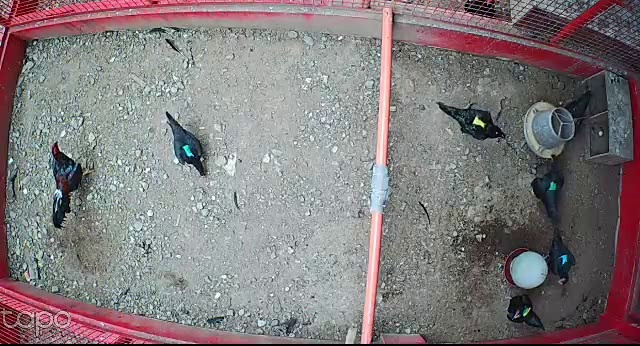Chicken: (162, 110, 209, 178), (436, 99, 508, 142), (527, 155, 567, 230), (543, 225, 578, 287), (501, 295, 550, 333), (563, 88, 592, 132)
Drinker: (502, 248, 553, 291)
Feeder: (524, 101, 575, 160)
Rooster: (44, 140, 96, 232)
Saddle_Color_Blue: (559, 254, 569, 265)
Saddle_Color_Yellow: (471, 116, 487, 129)
Saddle_Color_YellowGreen: (522, 305, 531, 319)
